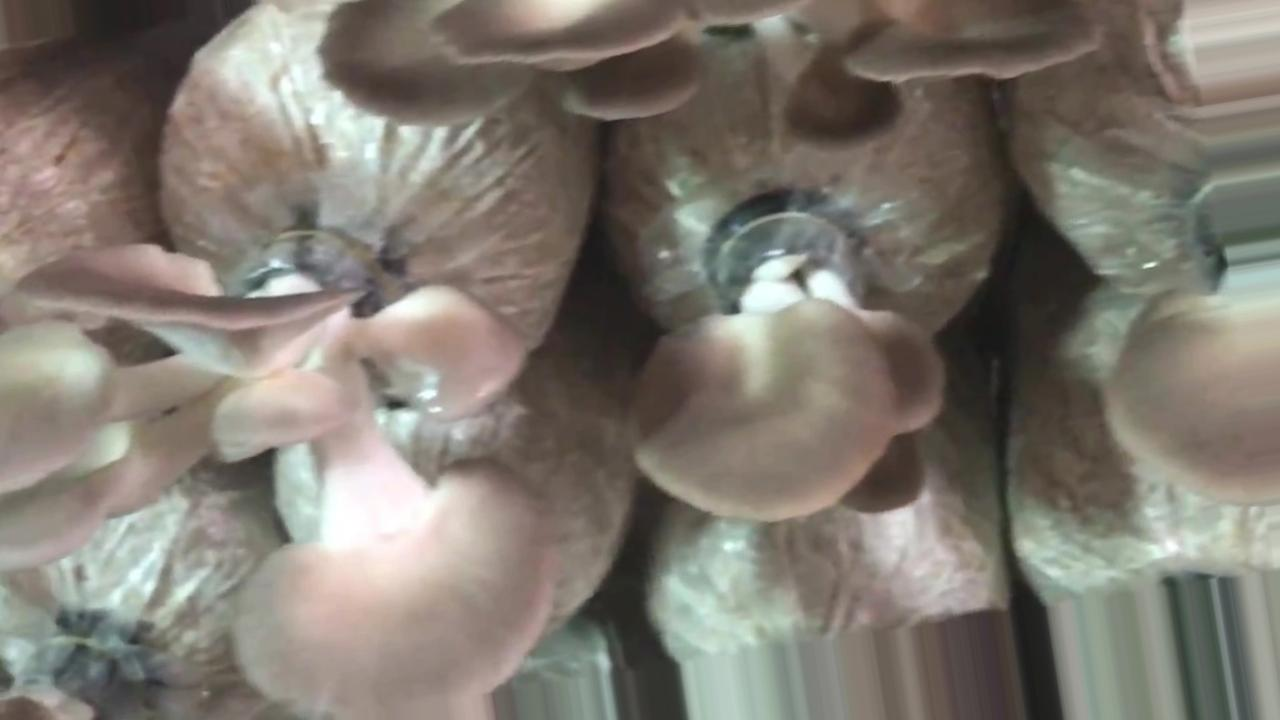nam: (1, 241, 557, 719), (320, 6, 1113, 155), (624, 195, 952, 525), (1109, 160, 1280, 510)
